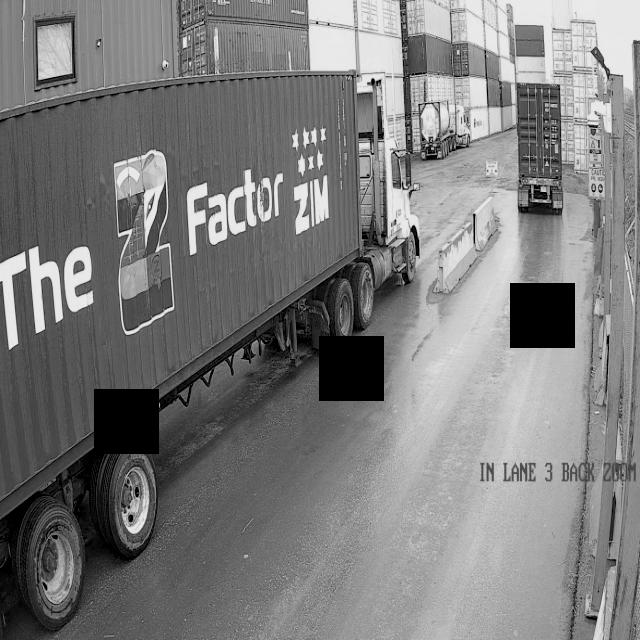container_company_logo: (185, 126, 330, 255), (0, 244, 114, 350), (114, 149, 175, 335)
truck_with_container: (0, 71, 420, 629), (517, 83, 563, 212), (419, 102, 469, 159)
